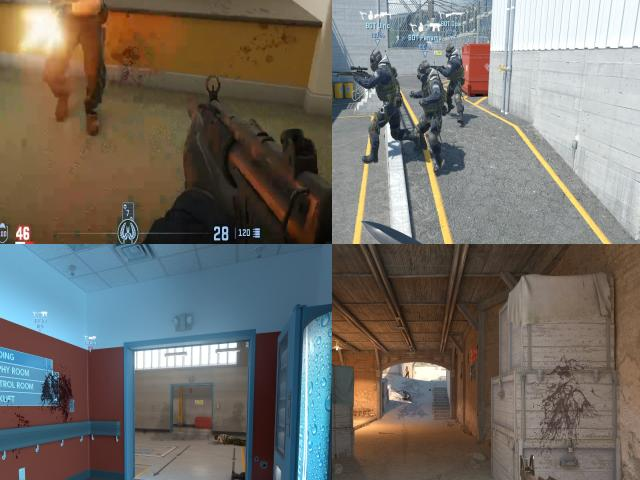CT: (370, 48, 398, 160), (418, 62, 442, 160), (446, 45, 464, 125)
CT-Head: (369, 50, 384, 70), (418, 61, 432, 80), (445, 44, 456, 57)
Dead: (216, 434, 245, 444), (401, 390, 411, 402)
T: (34, 0, 104, 64), (406, 366, 410, 377)
T-Head: (406, 366, 408, 368)
